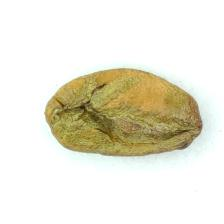NG: (53, 78, 187, 155)
